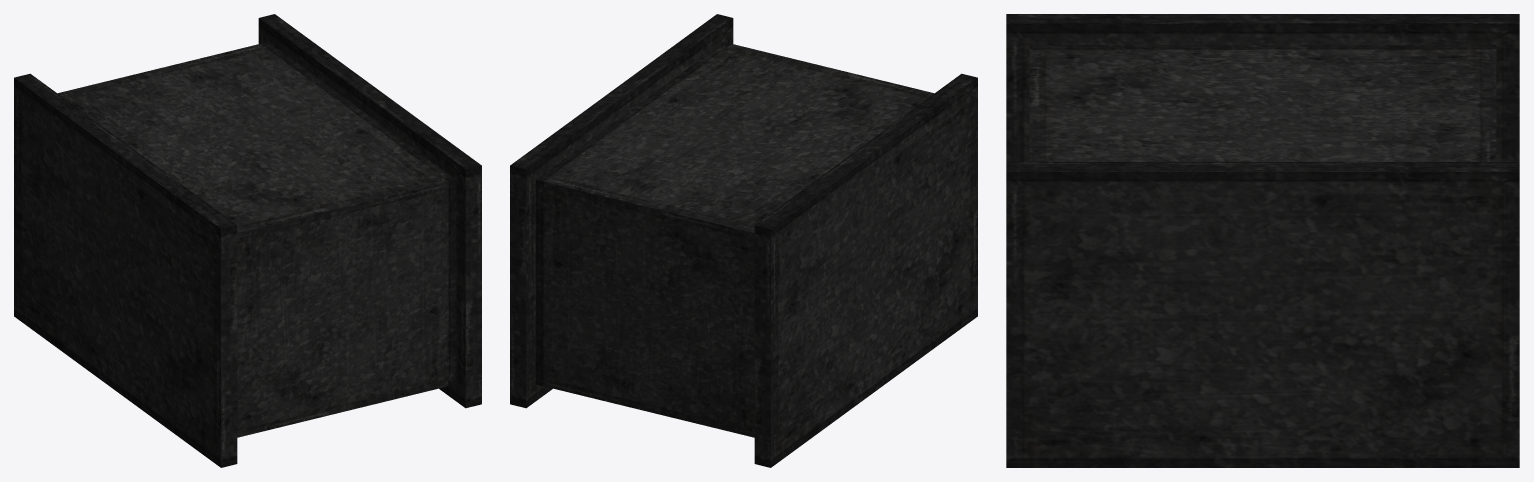
Rendered from p6_duct_rect_sml_16_white_lod0.glb.
3 renders of one model, left to right at view 1: azimuth 30°, elevation 25°; view 2: azimuth 150°, elevation 25°; view 3: azimuth 270°, elevation 25°, orthographic. The views are drawn at different scales.
Parts seen in each view (by area): view 1: surf0; view 2: surf0; view 3: surf0.
Boxes of the visible parts, bbox=[...] form: surf0: bbox=[14, 14, 481, 467]; surf0: bbox=[510, 14, 977, 467]; surf0: bbox=[1006, 14, 1519, 467].
Size of the model in its own units: 16 by 14 by 22.
